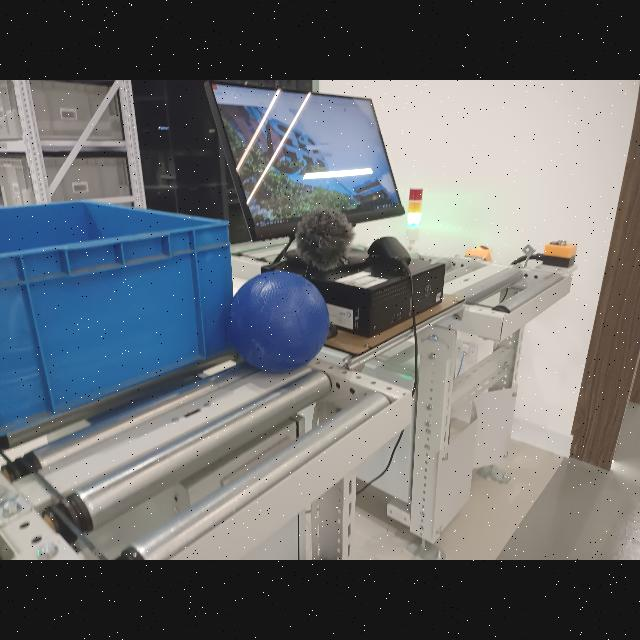B: (228, 266, 330, 370)
